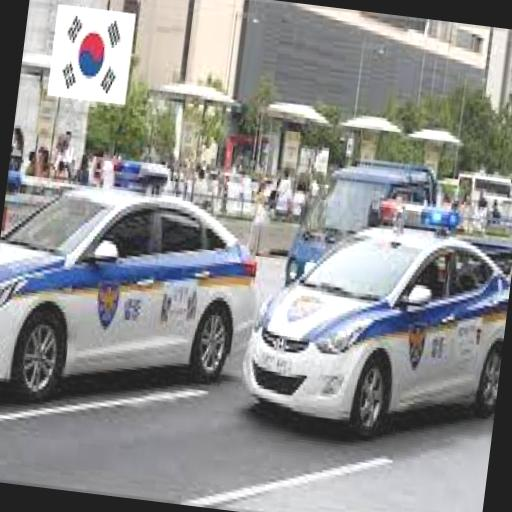Ambulance: (0, 142, 265, 427), (237, 183, 512, 449)
